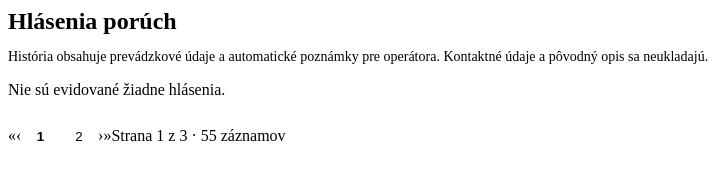
Test: AdminFaultReportsPage › navigates to the requested page through the accessible pagination controls
Expected: the text "Strana 1 z 3 · 55 záznamov" is shown, [111,127,286,145]
Click the button named "Ďalšia strana" at (101, 136), box [98,115,103,157]
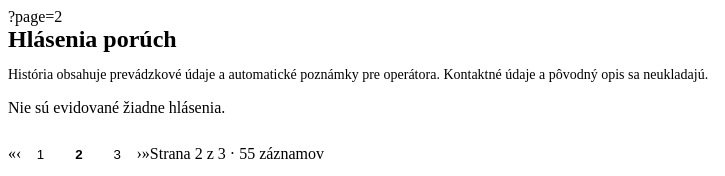
Expected: the text named "Aktuálna URL" reads "?page=2", [8,8,62,25]
